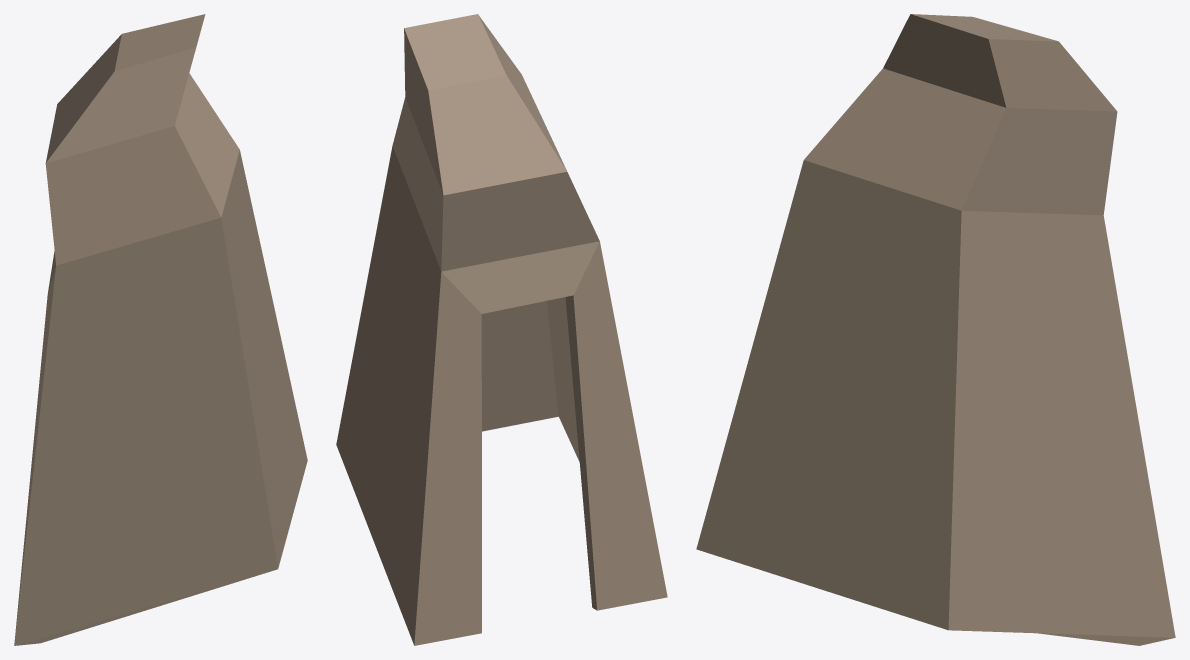
The model's file is house.fbx.
The picture shows the model from 3 angles, left to right: view 1: azimuth 30°, elevation 25°; view 2: azimuth 150°, elevation 25°; view 3: azimuth 270°, elevation 25°; orthographic projection. The views are drawn at different scales.
Parts seen in each view (by area): view 1: casa4.003; view 2: casa4.003; view 3: casa4.003.
Part boxes in pixels (x1,y1,x2,y2): casa4.003: (14, 14, 307, 645); casa4.003: (336, 14, 667, 645); casa4.003: (696, 14, 1175, 645).
Size of the model in its own units: 329 by 552 by 364.
